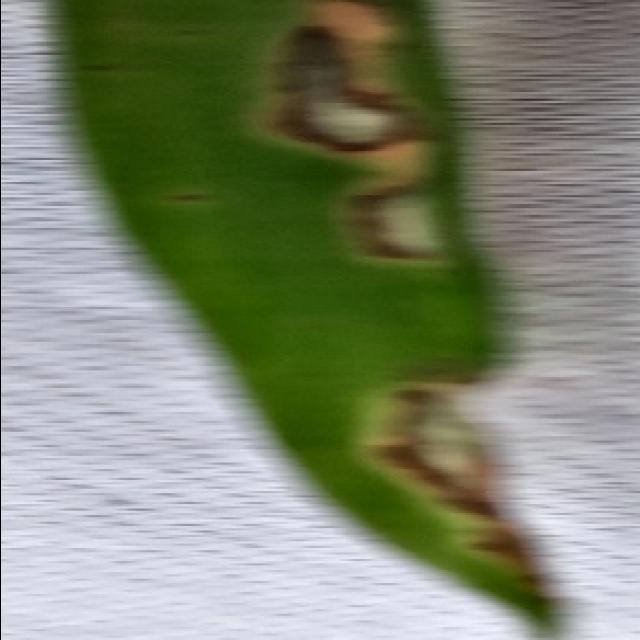Leaf_Blast: (265, 0, 455, 303)
